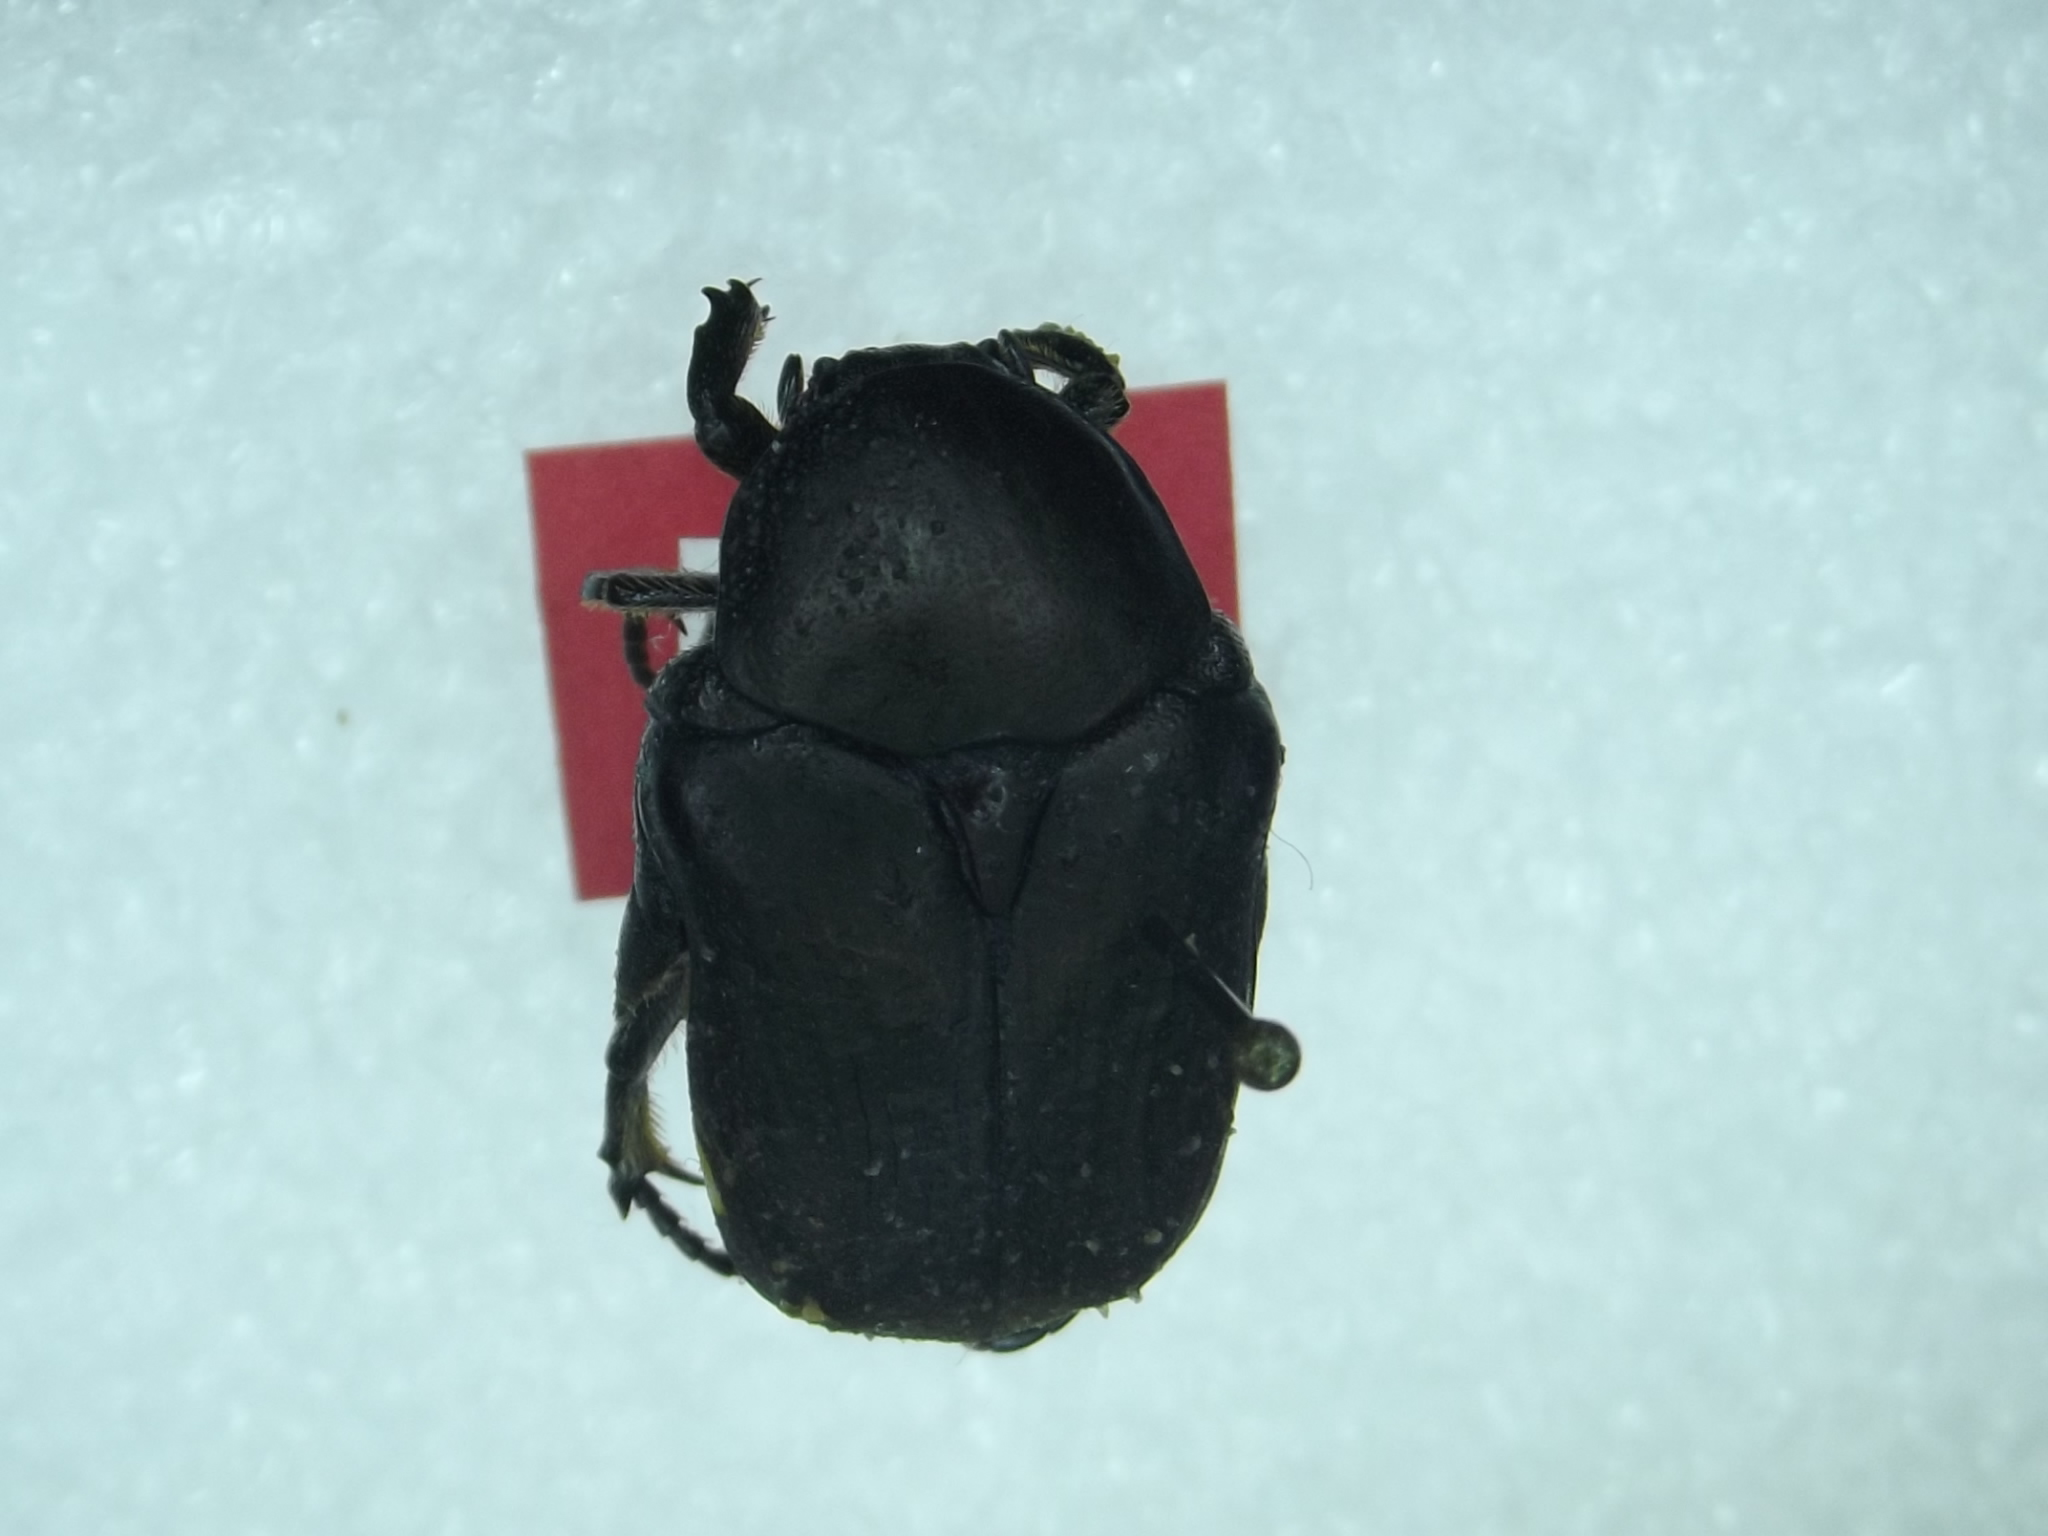Protaetia_oblonga: (543, 239, 1313, 1375)
